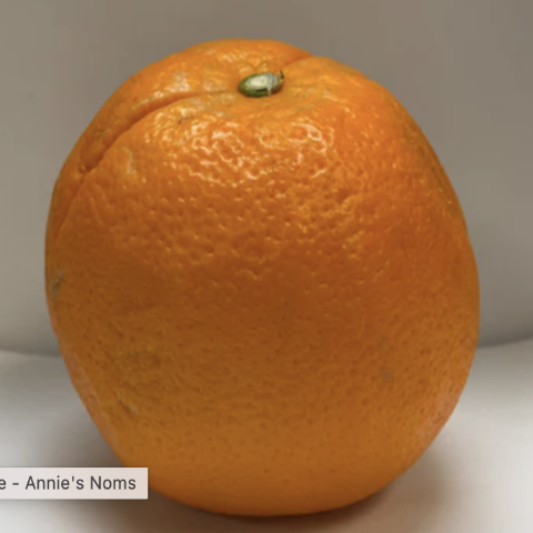orange: (9, 9, 503, 517)
